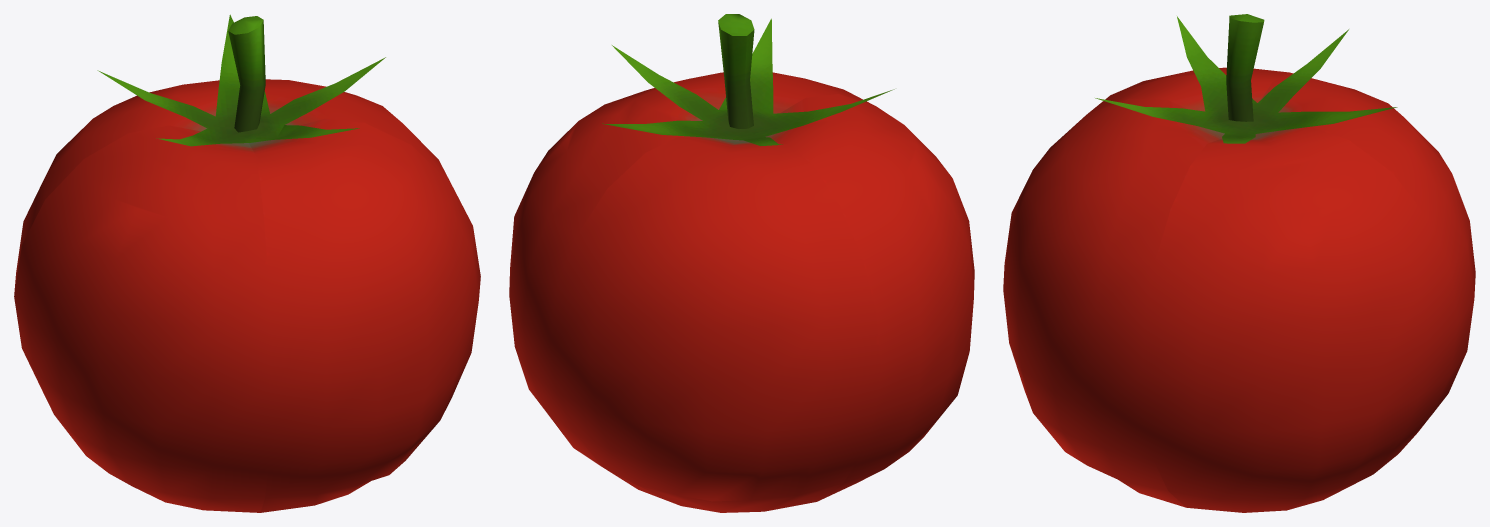
The model's file is tomato.glb.
3 views of the same model, side by side, from view 1: azimuth 30°, elevation 25°; view 2: azimuth 150°, elevation 25°; view 3: azimuth 270°, elevation 25° (orthographic). The views are drawn at different scales.
Bounding box in the file's own units: 1.07 × 1.17 × 1.07.
Materials: 1 (1 with a texture image).
